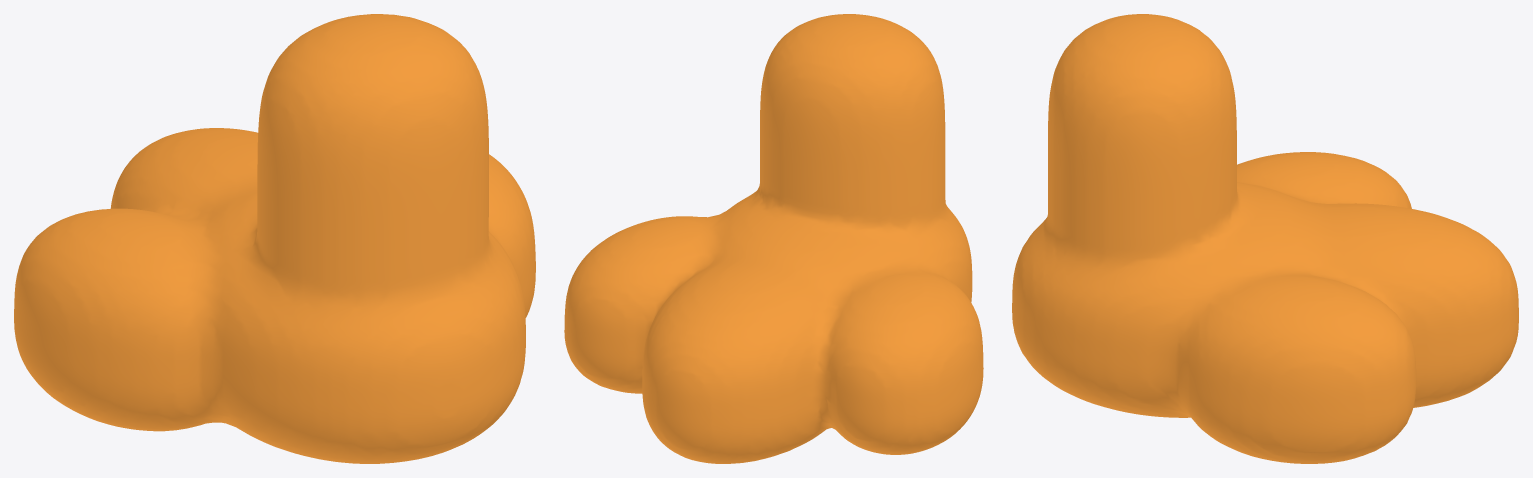
File: atlas-derived-reference.glb
3 views of the same model, side by side, from view 1: azimuth 30°, elevation 25°; view 2: azimuth 150°, elevation 25°; view 3: azimuth 270°, elevation 25° (orthographic). The views are drawn at different scales.
Bounding box in the file's own units: 1.27 × 1.03 × 1.34.
1 material, 1 textured.
